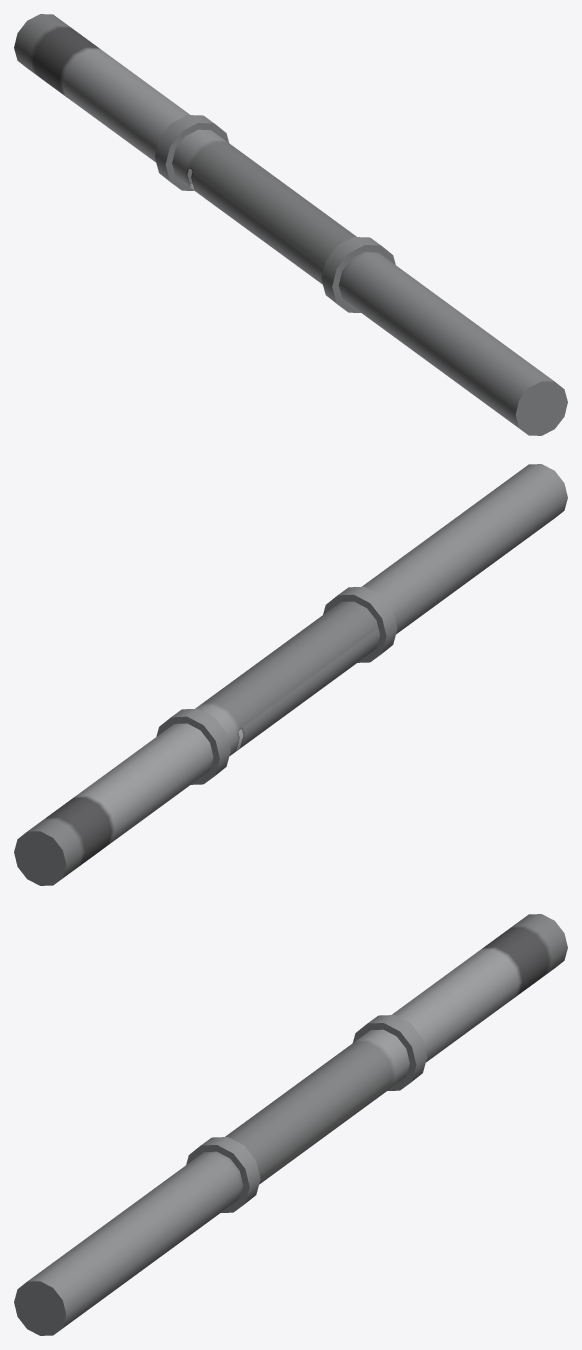
3 views of the same model, one above another, from view 1: azimuth 30°, elevation 25°; view 2: azimuth 150°, elevation 25°; view 3: azimuth 330°, elevation 25° (orthographic).
Bounding box in the file's own units: 0.19 × 0.19 × 2.53.
